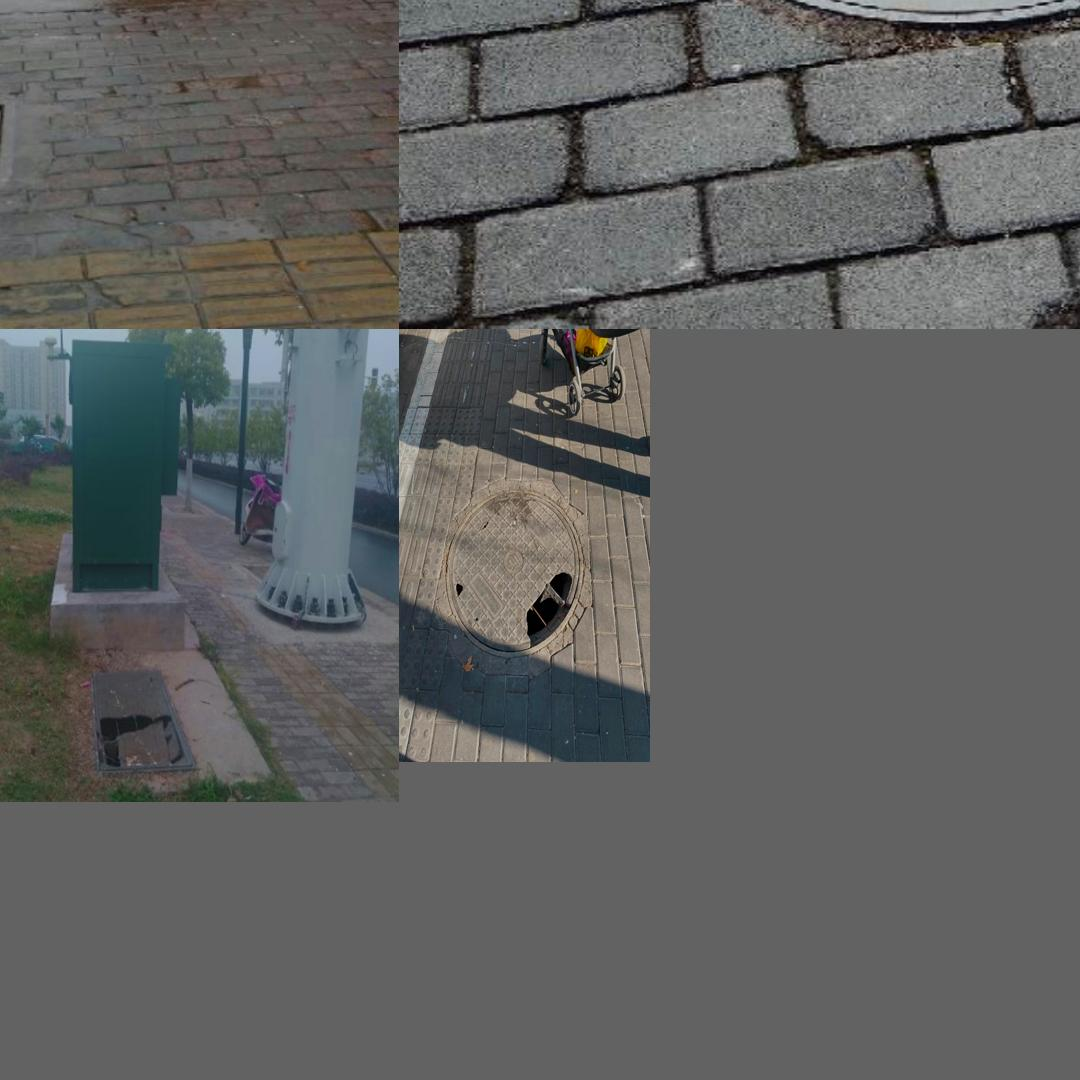broke: (558, 0, 1080, 59), (445, 488, 583, 658), (90, 666, 198, 776), (0, 99, 13, 197)
